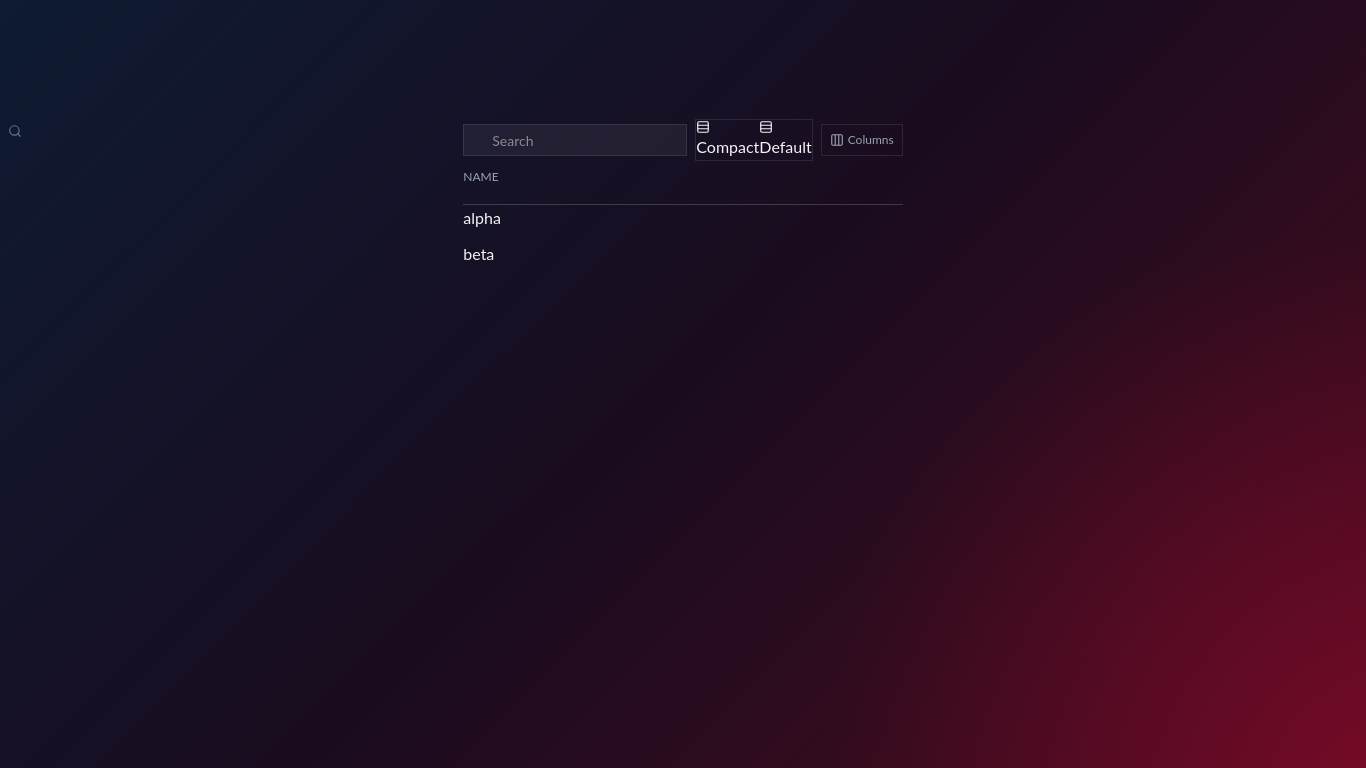
Test case: data › DataGrid toolbar slots (search, density, columns) operate
The width and height of the screenshot is (1366, 768).
Type "alp" into the search field at (575, 140), box x1=463 y1=124 x2=687 y2=156
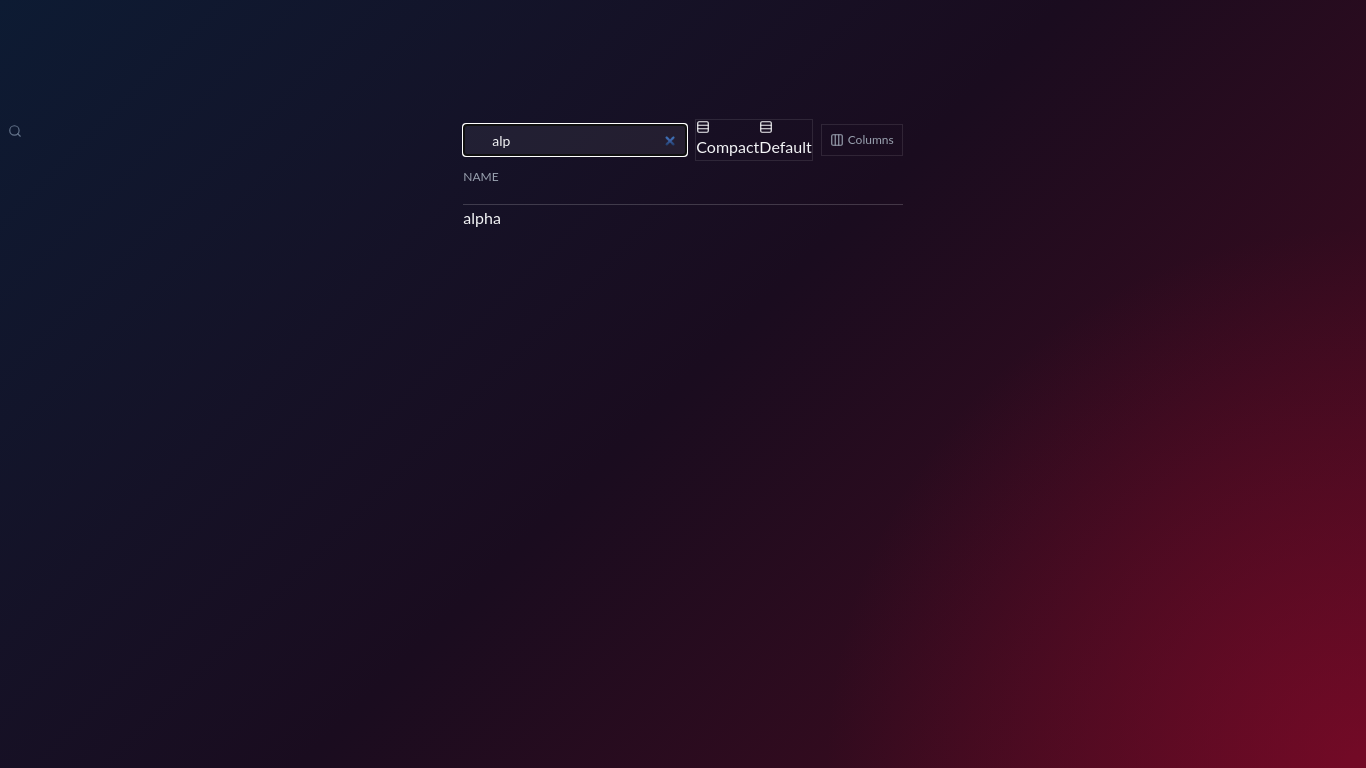
Expected: the button "Default" is shown, x1=759 y1=120 x2=812 y2=160
Now the text "beta" is gone
Click the button "Columns" at (862, 140), box x1=821 y1=124 x2=903 y2=156
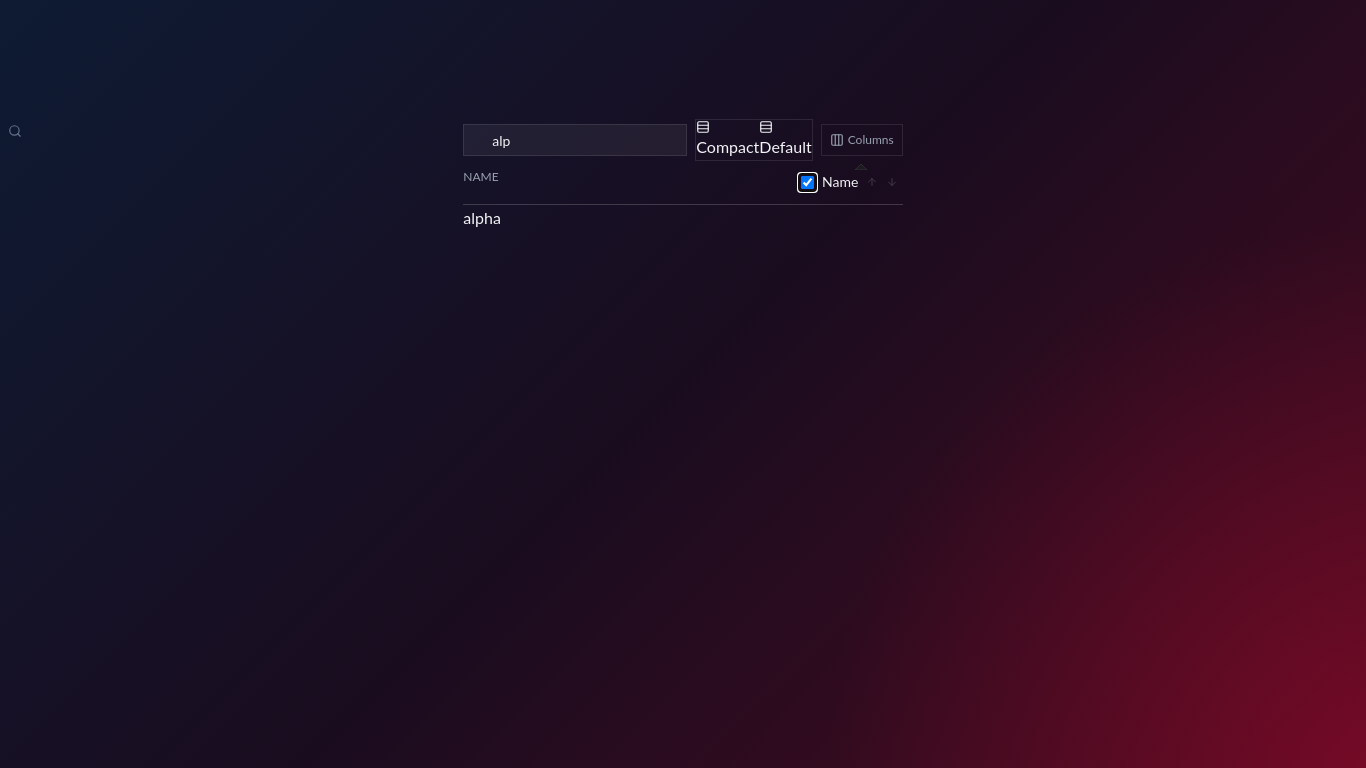
Now the checkbox labelled "Name" is checked, box x1=801 y1=176 x2=814 y2=188
